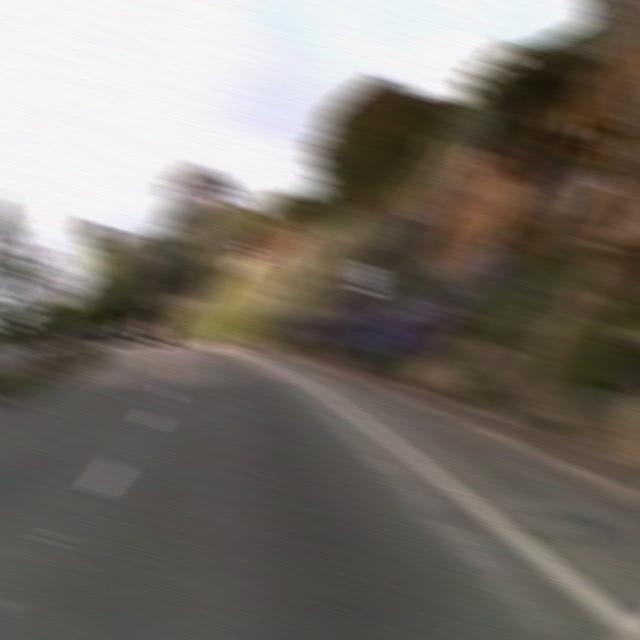speedLimit40: (350, 260, 382, 296)
